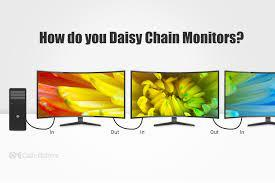monitor: (35, 69, 126, 119), (130, 69, 219, 120), (223, 69, 275, 119)
